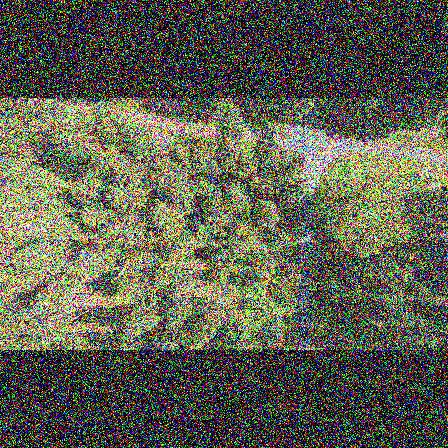Sick: (74, 247, 106, 271), (39, 277, 64, 303), (205, 203, 229, 229)
